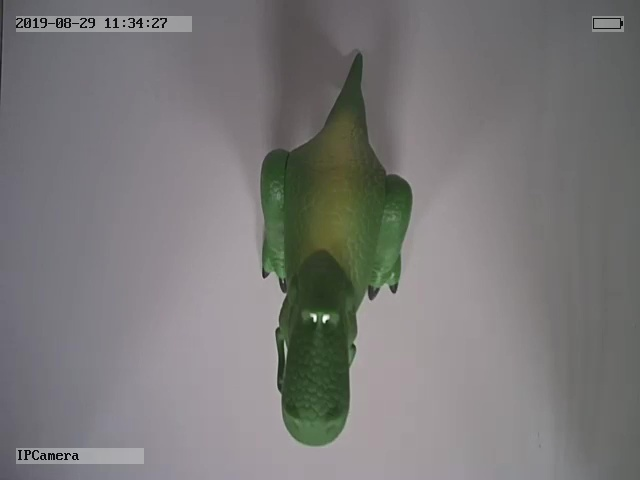rex: (257, 50, 415, 449)
